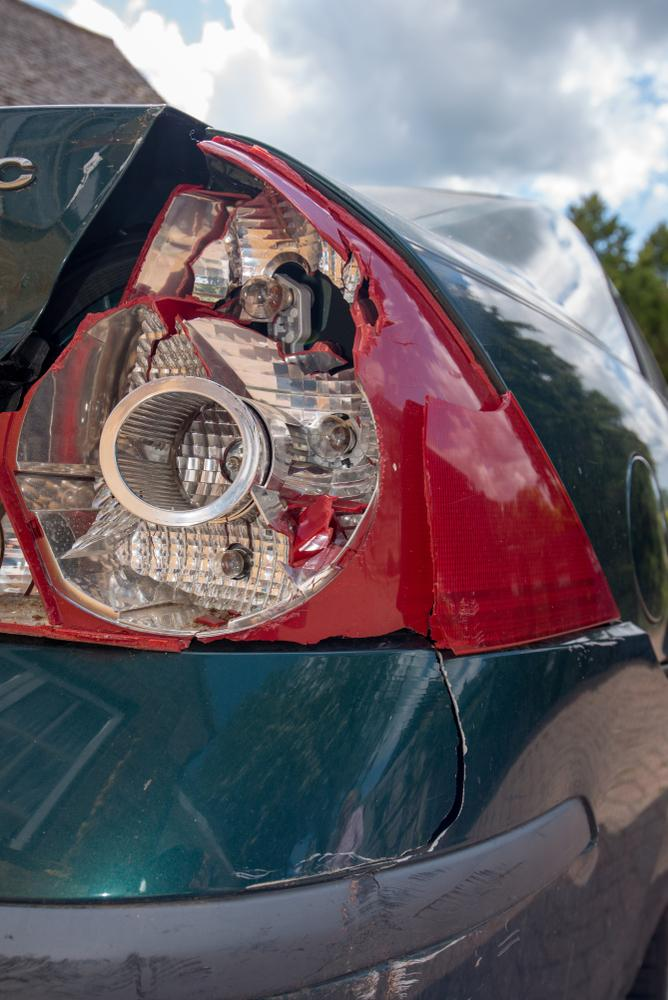crack: (329, 658, 467, 874)
lamp broken: (0, 131, 624, 657)
scratch: (0, 871, 529, 1000)
